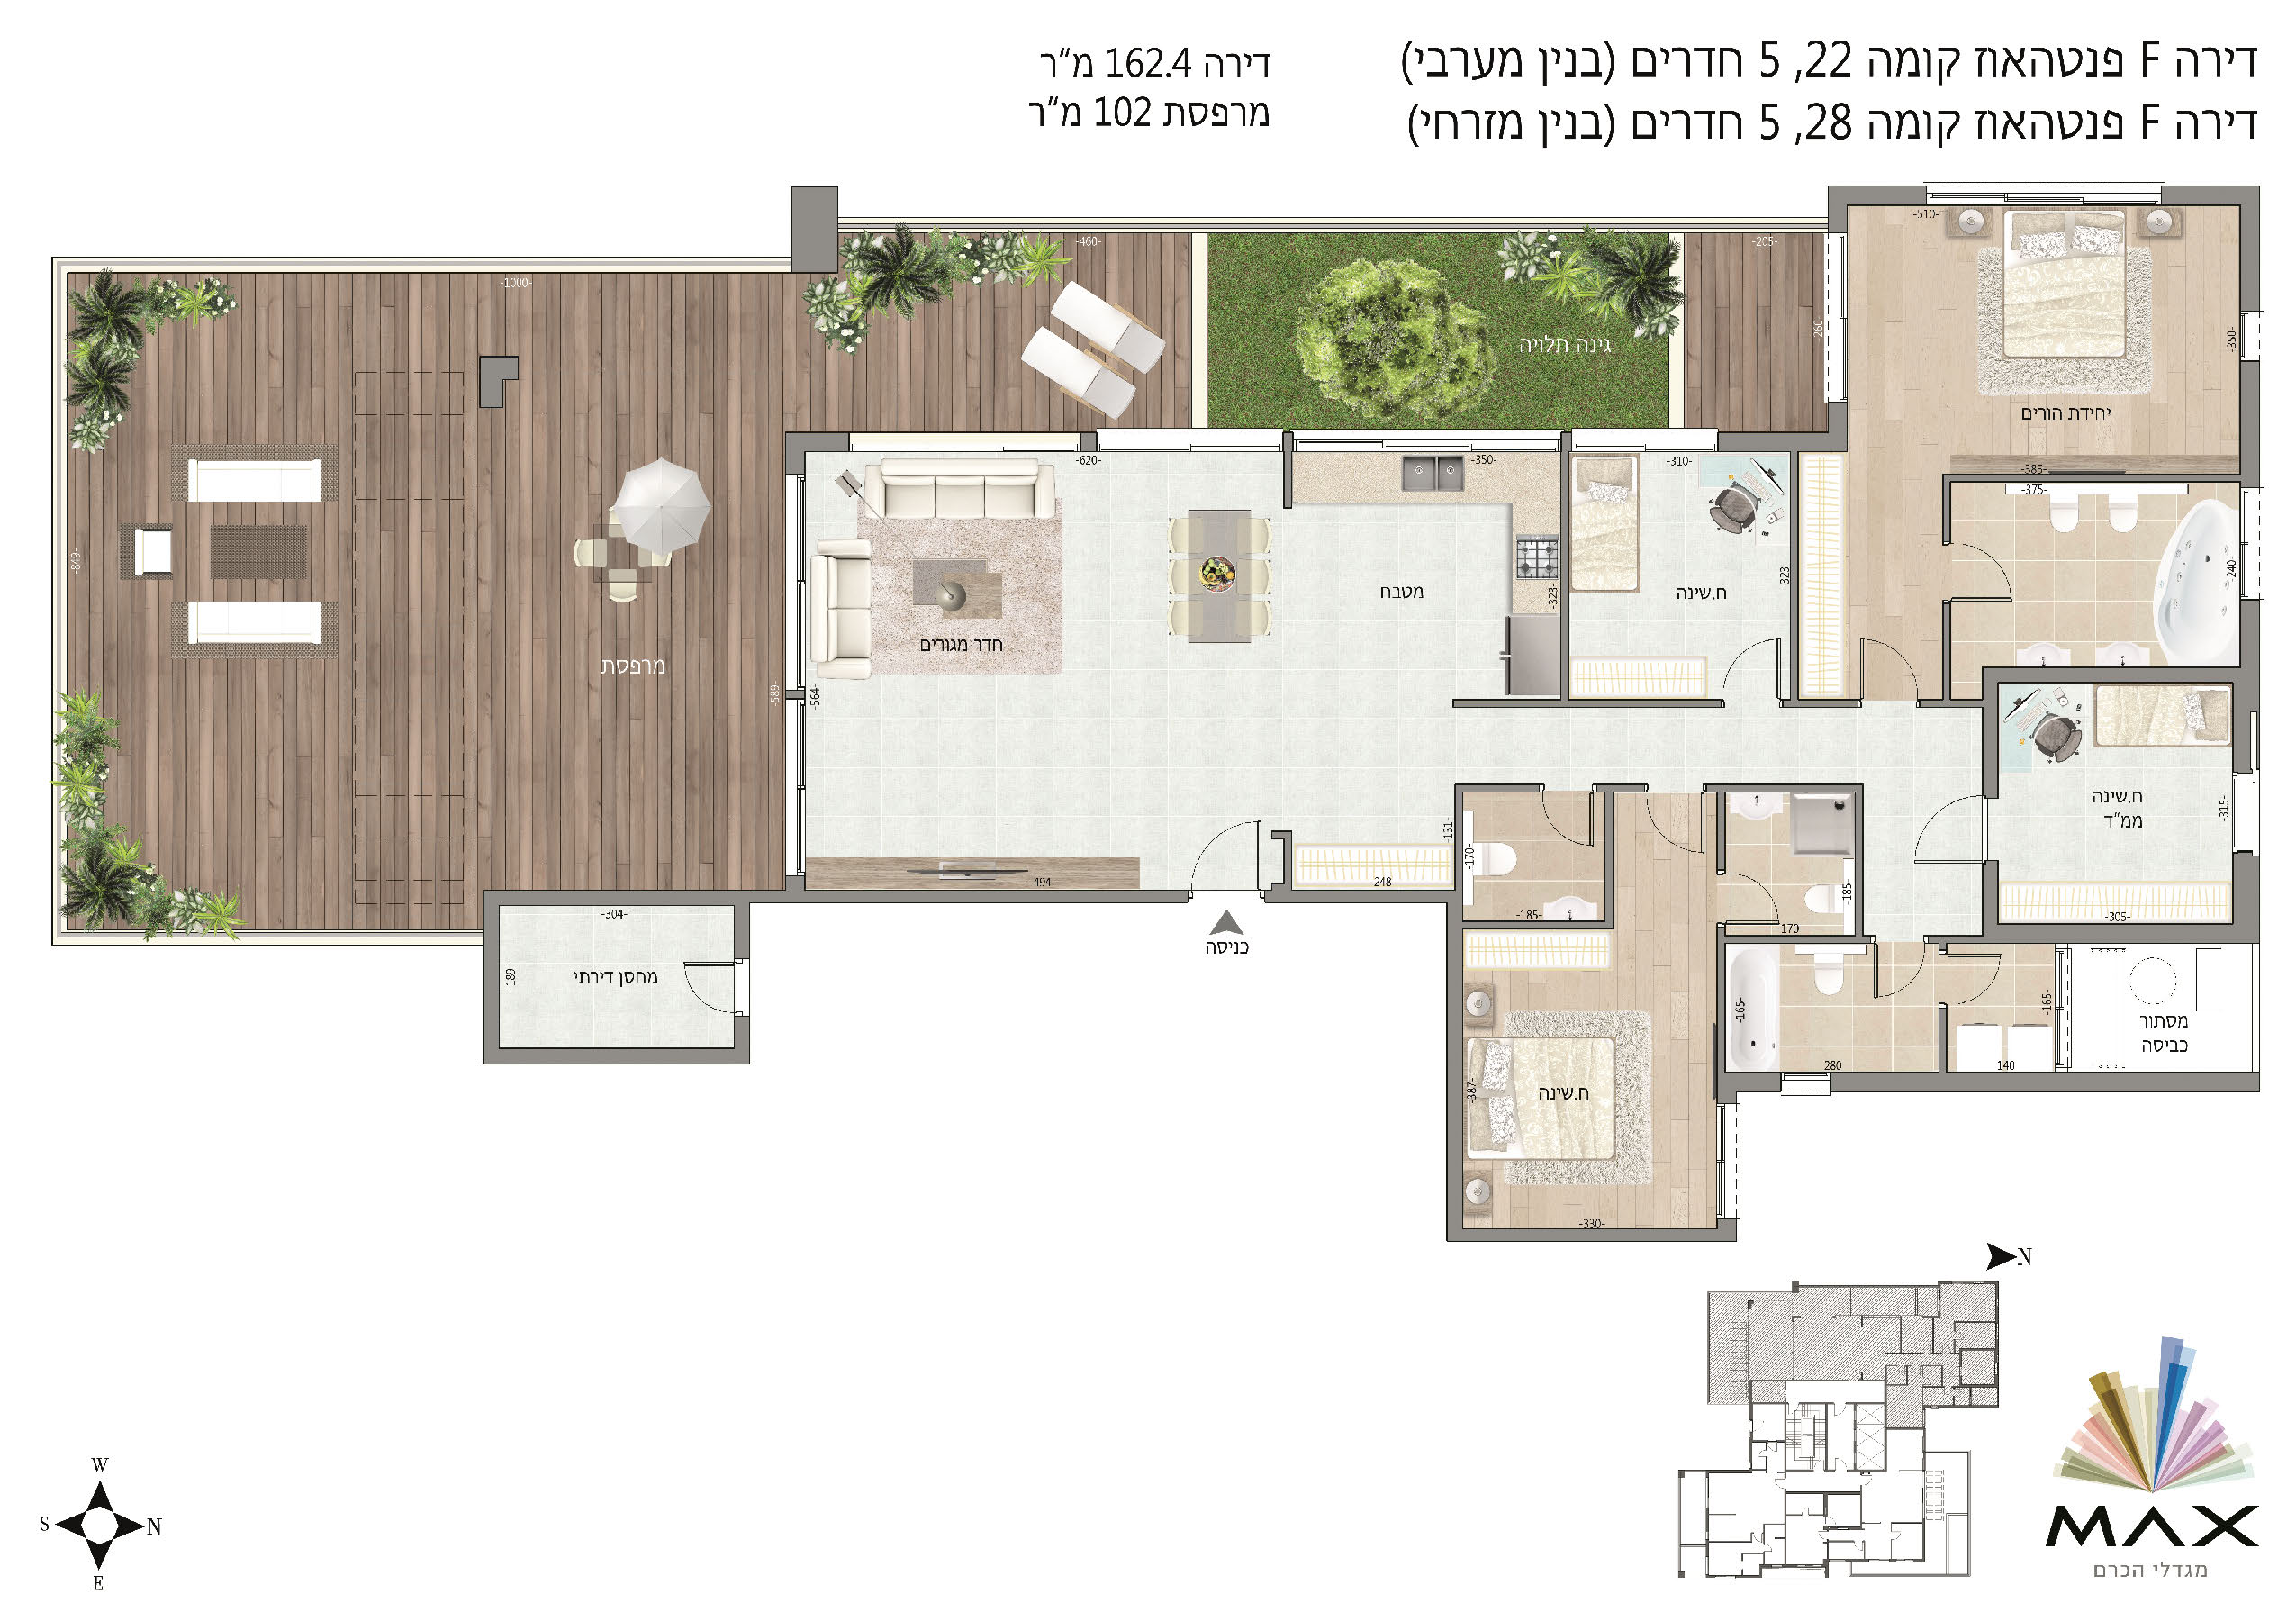door: (1894, 786, 1982, 896), (1175, 812, 1265, 886), (1714, 632, 1789, 689), (1537, 803, 1612, 860), (1966, 542, 2021, 616), (1850, 628, 1924, 679), (1649, 825, 1714, 872), (1735, 870, 1786, 930), (679, 947, 726, 1010), (1865, 961, 1919, 1009)
wall: (1835, 1072, 2261, 1095), (786, 891, 1194, 909), (1445, 884, 1461, 1226), (1989, 926, 2263, 944), (789, 188, 837, 275), (1982, 668, 2263, 682), (802, 895, 1175, 902), (1715, 432, 1847, 451), (1454, 698, 1717, 707), (1559, 451, 1568, 707), (786, 430, 847, 449), (784, 432, 803, 475)
window: (786, 474, 809, 581), (1721, 1103, 1742, 1212), (786, 584, 805, 686), (784, 789, 803, 874), (789, 700, 805, 786), (2243, 488, 2252, 602), (1784, 1074, 1831, 1088)
